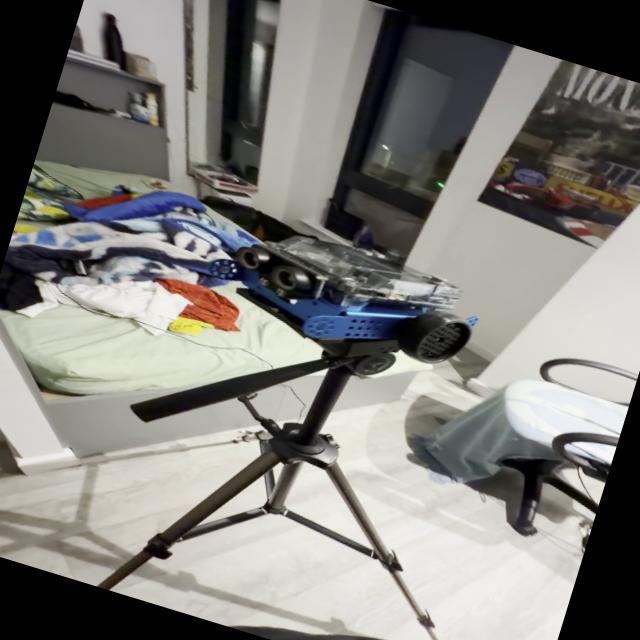mbot-detection: (189, 200, 504, 390)
